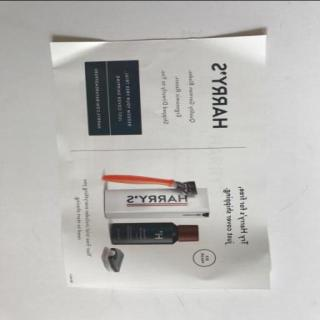Anorganik: (44, 28, 282, 296)
